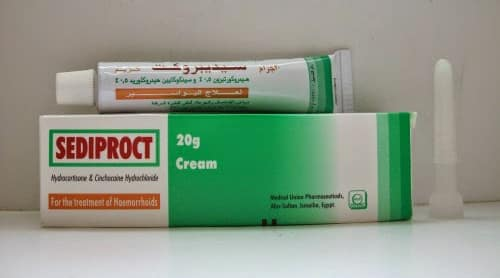Medicine: (37, 109, 415, 229), (52, 46, 362, 114)
